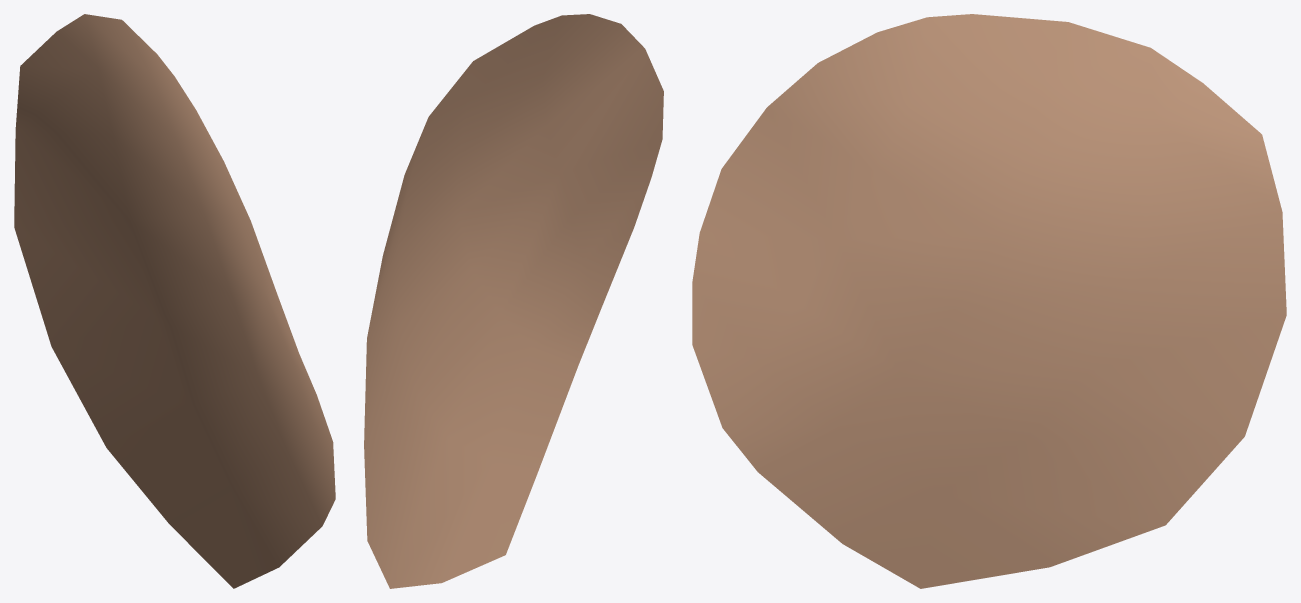
Rendered from medial-malleolus-r.glb.
3 views of the same model, side by side, from view 1: azimuth 30°, elevation 25°; view 2: azimuth 150°, elevation 25°; view 3: azimuth 270°, elevation 25° (orthographic). The views are drawn at different scales.
Parts seen in each view (by area): view 1: Medial malleolus.r; view 2: Medial malleolus.r; view 3: Medial malleolus.r.
Boxes of the visible parts, x1,y1,x2,y2 form: Medial malleolus.r: (14, 14, 335, 588); Medial malleolus.r: (364, 14, 663, 588); Medial malleolus.r: (692, 14, 1286, 588).
Size of the model in its own units: 0.00634 by 0.0431 by 0.0423.
